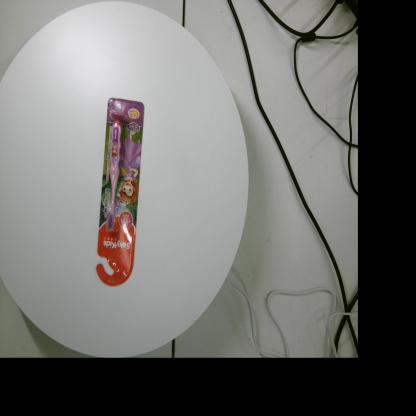Personal Hygiene: (96, 97, 145, 286)
